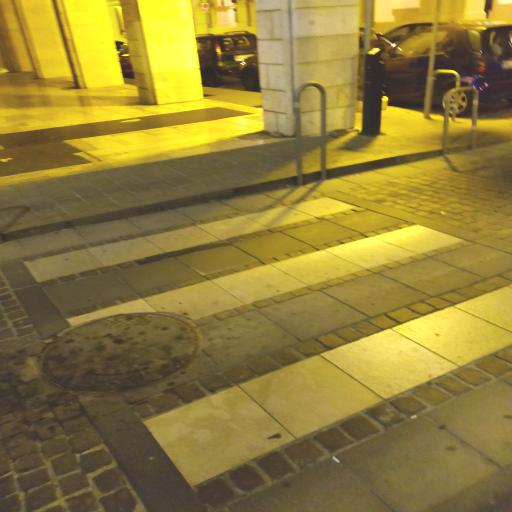crosswalk: (18, 192, 480, 358)
